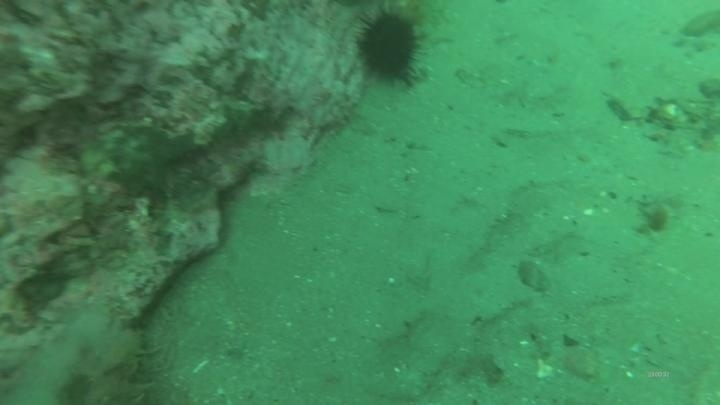echinus: (350, 5, 429, 89)
holothurian: (3, 303, 154, 404)
